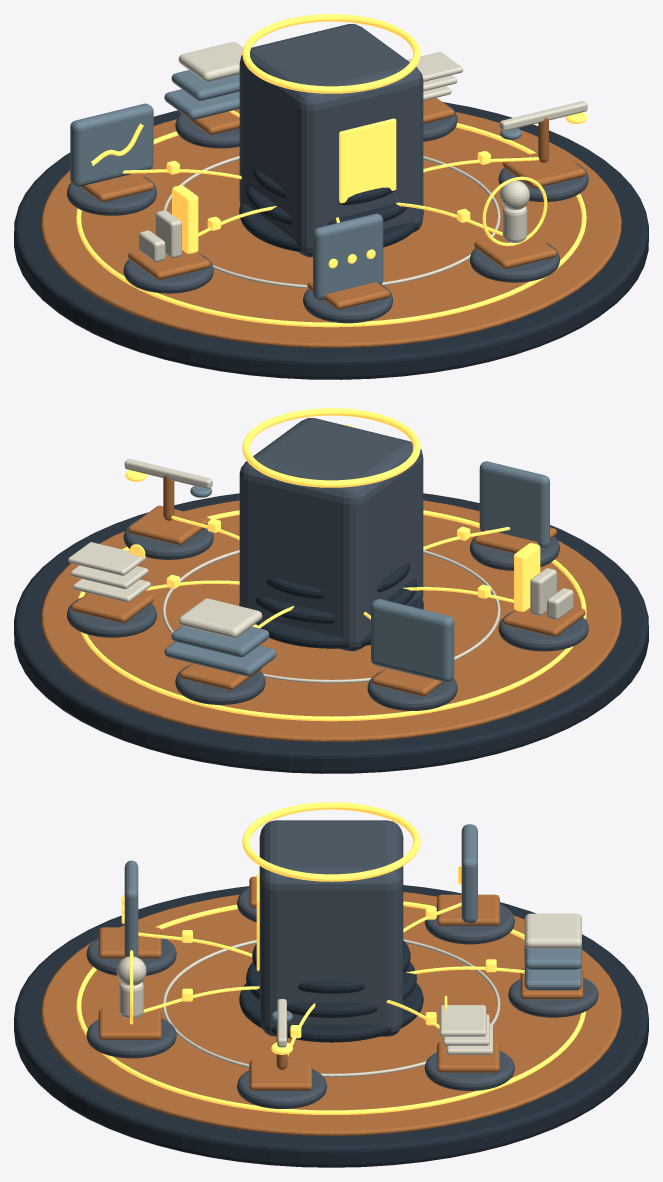
Rendered from programos_journey.glb.
3 renders of one model, top to bottom at view 1: azimuth 30°, elevation 25°; view 2: azimuth 150°, elevation 25°; view 3: azimuth 270°, elevation 25°, orthographic.
Parts seen in each view (by area): view 1: Copper Inlay, Foundation, ProgramOS Core, Report Screen, Activity Board, Core Light, Outer Data Ring, Core Halo, Stage 3 Edge, Program Layer 2, Core Terrace, Stage 4 Edge (+25 smaller); view 2: Copper Inlay, ProgramOS Core, Foundation, Report Screen, Activity Board, Outer Data Ring, Core Halo, Program Layer 2, Program Layer 0, Stage 3 Edge, Program Layer 1, Stage 6 Platform (+21 smaller); view 3: Copper Inlay, Foundation, ProgramOS Core, Outer Data Ring, Core Halo, Core Terrace, Program Layer 2, Stage 3 Edge, Core Terrace.001, Inner Data Ring, Stage 3 Platform, Stage 1 Platform (+19 smaller).
Part boxes in pixels (x1=…): Copper Inlay: x1=41, y1=112, x2=621, y2=347; Foundation: x1=14, y1=102, x2=648, y2=379; ProgramOS Core: x1=239, y1=24, x2=423, y2=257; Report Screen: x1=70, y1=103, x2=153, y2=186; Activity Board: x1=313, y1=213, x2=383, y2=300; Core Light: x1=339, y1=118, x2=396, y2=203; Outer Data Ring: x1=76, y1=123, x2=586, y2=327; Core Halo: x1=242, y1=14, x2=420, y2=93; Stage 3 Edge: x1=503, y1=148, x2=585, y2=188; Program Layer 2: x1=178, y1=42, x2=243, y2=81; Core Terrace: x1=239, y1=202, x2=423, y2=252; Stage 4 Edge: x1=474, y1=230, x2=556, y2=268; Copper Inlay: x1=41, y1=500, x2=621, y2=741; ProgramOS Core: x1=239, y1=418, x2=423, y2=651; Foundation: x1=14, y1=493, x2=648, y2=773; Report Screen: x1=371, y1=599, x2=454, y2=681; Activity Board: x1=479, y1=461, x2=549, y2=547; Outer Data Ring: x1=78, y1=510, x2=586, y2=721; Core Halo: x1=242, y1=408, x2=420, y2=487; Program Layer 2: x1=178, y1=598, x2=262, y2=638; Program Layer 0: x1=164, y1=641, x2=276, y2=676; Stage 3 Edge: x1=128, y1=505, x2=210, y2=545; Program Layer 1: x1=171, y1=626, x2=269, y2=657; Stage 6 Platform: x1=498, y1=611, x2=588, y2=651; Copper Inlay: x1=41, y1=892, x2=621, y2=1135; Foundation: x1=14, y1=885, x2=648, y2=1167; ProgramOS Core: x1=259, y1=820, x2=403, y2=1036; Outer Data Ring: x1=76, y1=901, x2=585, y2=1114; Core Halo: x1=242, y1=802, x2=420, y2=881; Core Terrace: x1=239, y1=983, x2=423, y2=1042; Program Layer 2: x1=524, y1=913, x2=581, y2=948; Stage 3 Edge: x1=249, y1=1059, x2=311, y2=1090; Core Terrace.001: x1=246, y1=962, x2=416, y2=1017; Inner Data Ring: x1=162, y1=939, x2=500, y2=1077; Stage 3 Platform: x1=237, y1=1069, x2=327, y2=1108; Stage 1 Platform: x1=508, y1=977, x2=598, y2=1017.
Bounding box in the file's own units: 9.3 × 3.18 × 9.3.
